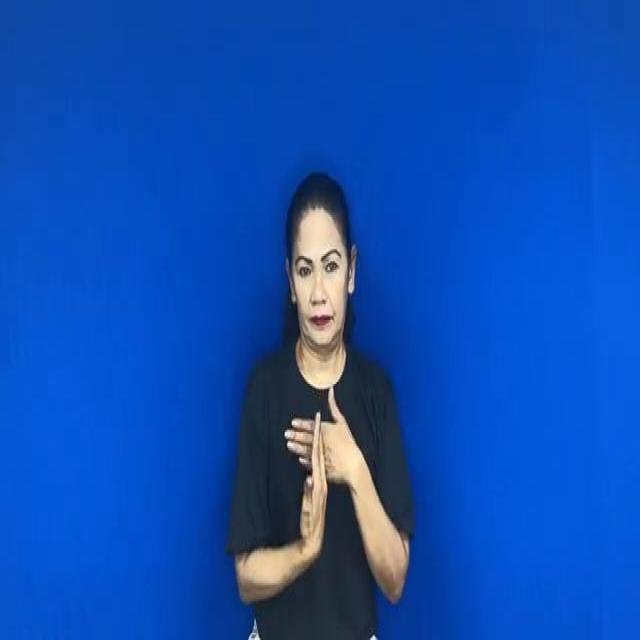bread: (288, 390, 357, 555)
